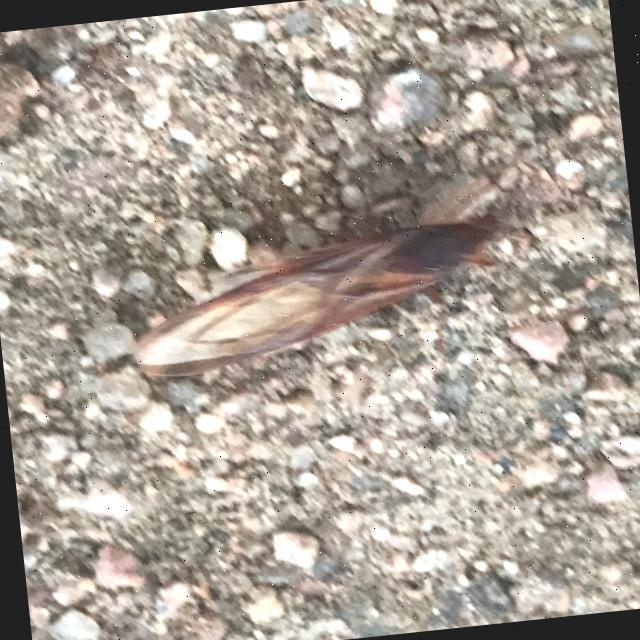Alive-Male-Alate: (114, 156, 586, 384)
